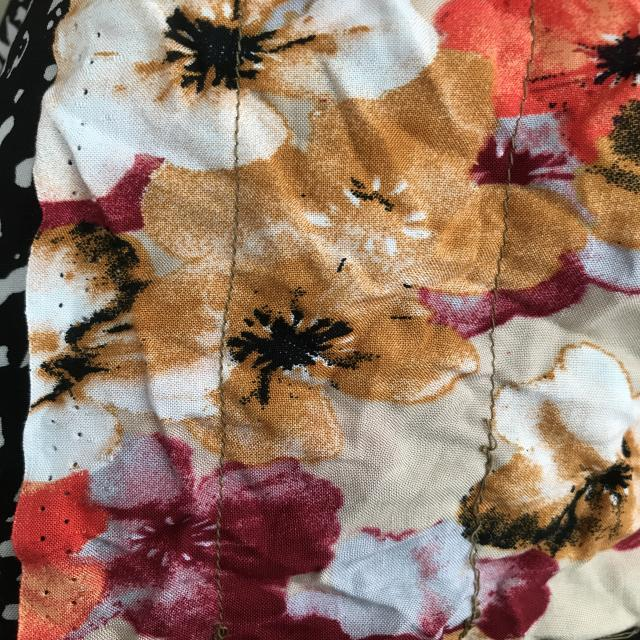good: (215, 108, 244, 302), (481, 334, 515, 401), (492, 190, 516, 280)
